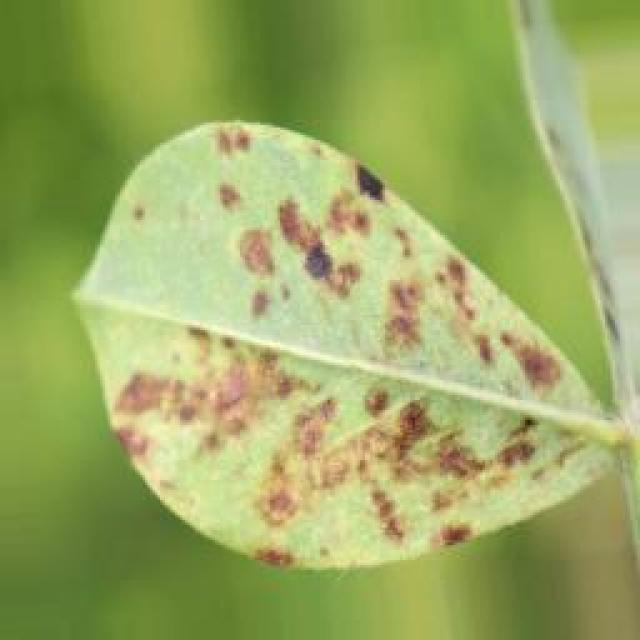Whitefly: (63, 85, 577, 602)
